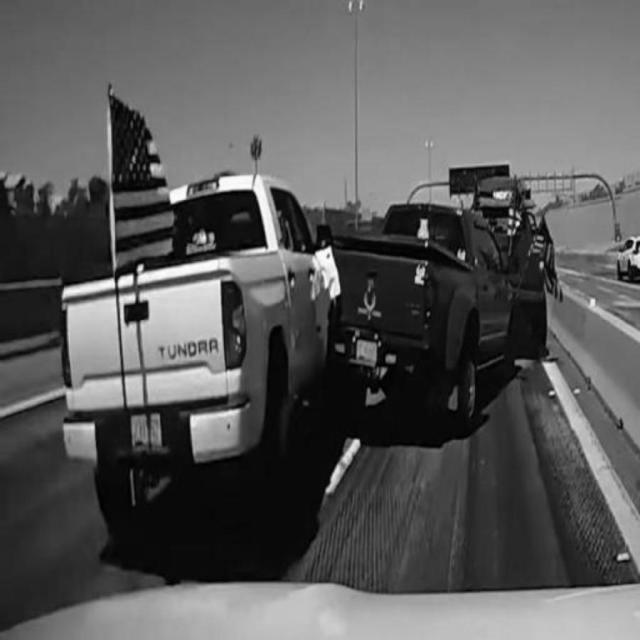accident: (59, 173, 555, 513)
